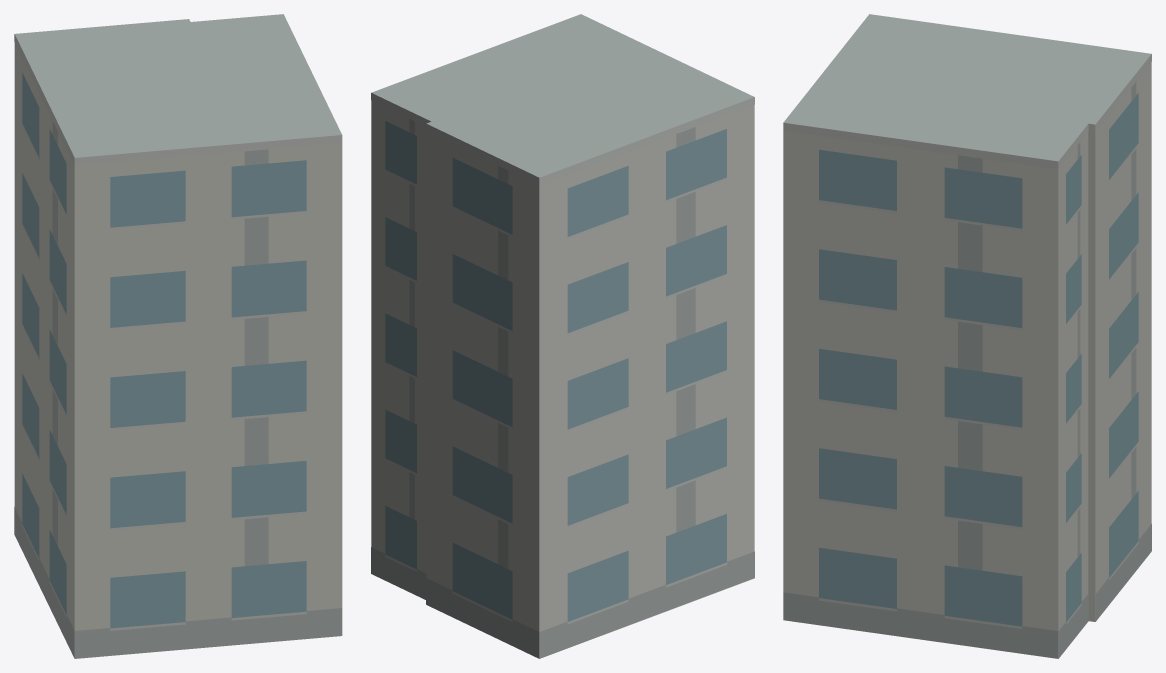
File: survey-upis-32497924.glb
3 views of the same model, side by side, from view 1: azimuth 30°, elevation 25°; view 2: azimuth 150°, elevation 25°; view 3: azimuth 270°, elevation 25° (orthographic). The views are drawn at different scales.
Visible parts, largest first — view 1: survey-upis-32497924.tmp; view 2: survey-upis-32497924.tmp; view 3: survey-upis-32497924.tmp.
Boxes of the visible parts, left/top/right/bottom form: survey-upis-32497924.tmp: left=14, top=14, right=342, bottom=658; survey-upis-32497924.tmp: left=371, top=14, right=754, bottom=658; survey-upis-32497924.tmp: left=783, top=14, right=1151, bottom=658.
Bounding box in the file's own units: 9.62 × 15.13 × 10.16.
